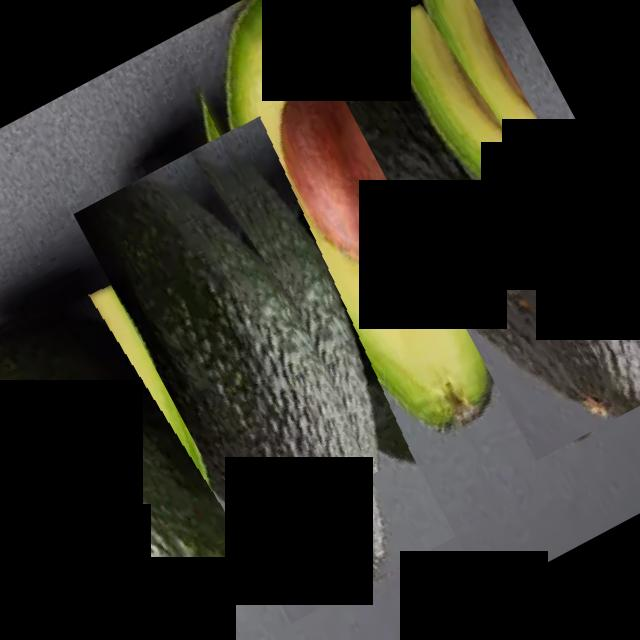avocado: (145, 0, 558, 474), (73, 126, 455, 623), (315, 0, 640, 460), (0, 258, 285, 637)
